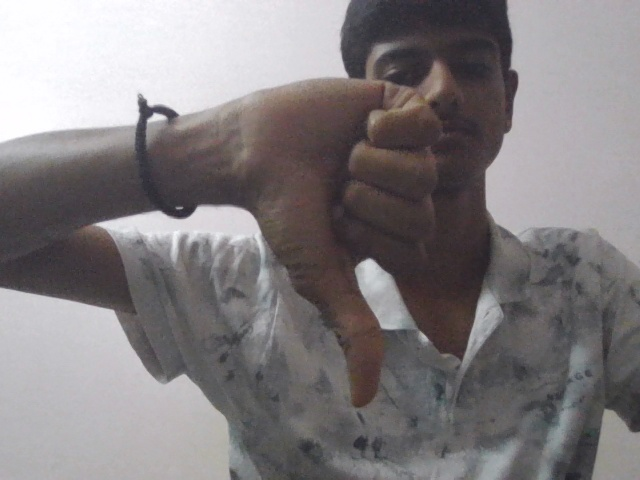no: (231, 72, 442, 419)
